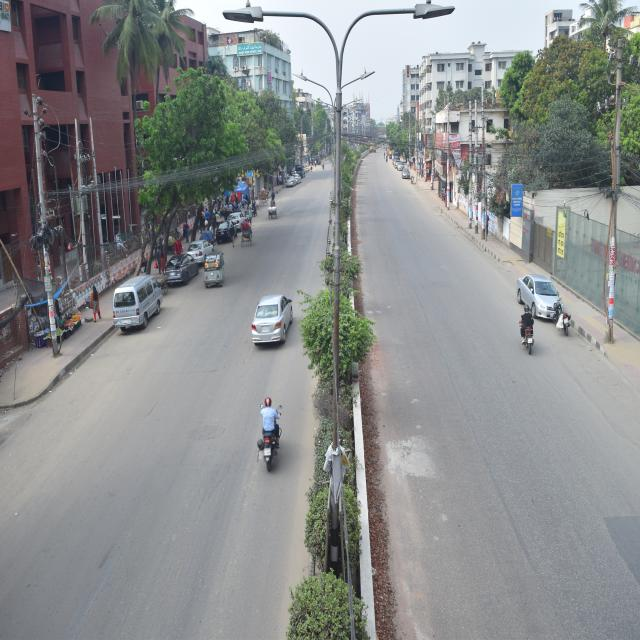car: (250, 284, 296, 353), (518, 270, 562, 330), (162, 248, 194, 290), (192, 232, 215, 268), (214, 219, 239, 246), (228, 205, 246, 231)
microbus: (108, 274, 168, 338)
motorbike: (257, 390, 288, 476), (549, 293, 574, 338), (523, 303, 542, 359)
